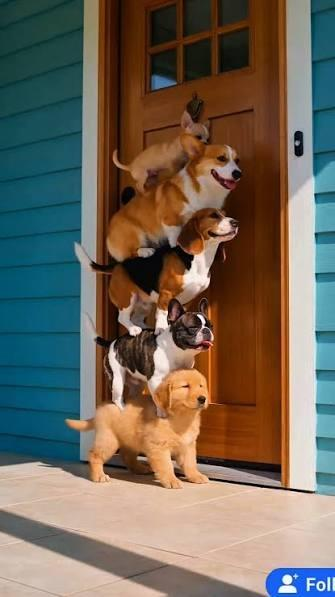adult_dog: (73, 141, 244, 263), (89, 208, 241, 336), (81, 298, 214, 420)
puppy-dog: (64, 369, 211, 489), (110, 109, 210, 195)
